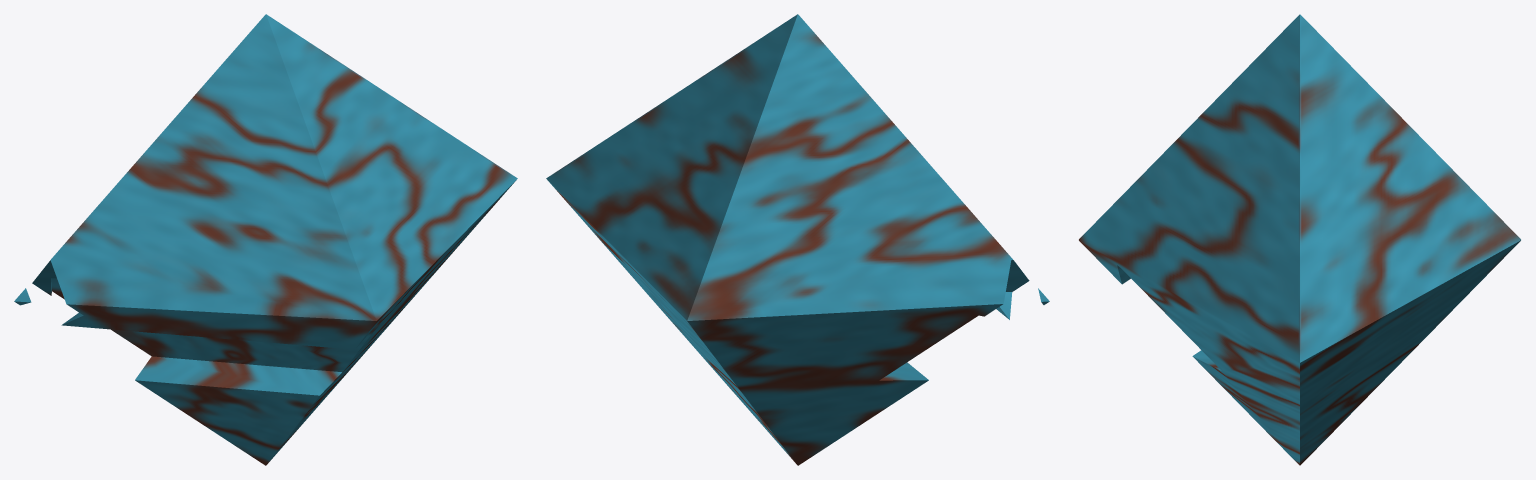
3 renders of one model, left to right at view 1: azimuth 30°, elevation 25°; view 2: azimuth 150°, elevation 25°; view 3: azimuth 270°, elevation 25°, orthographic.
Parts seen in each view (by area): view 1: geometry_0; view 2: geometry_0; view 3: geometry_0.
Boxes of the visible parts, x1=… form: geometry_0: x1=14, y1=14, x2=517, y2=465; geometry_0: x1=546, y1=14, x2=1049, y2=465; geometry_0: x1=1079, y1=14, x2=1520, y2=465.
Bounding box in the file's own units: 1.44 × 1.23 × 1.1.
Materials: 1 (1 with a texture image).
